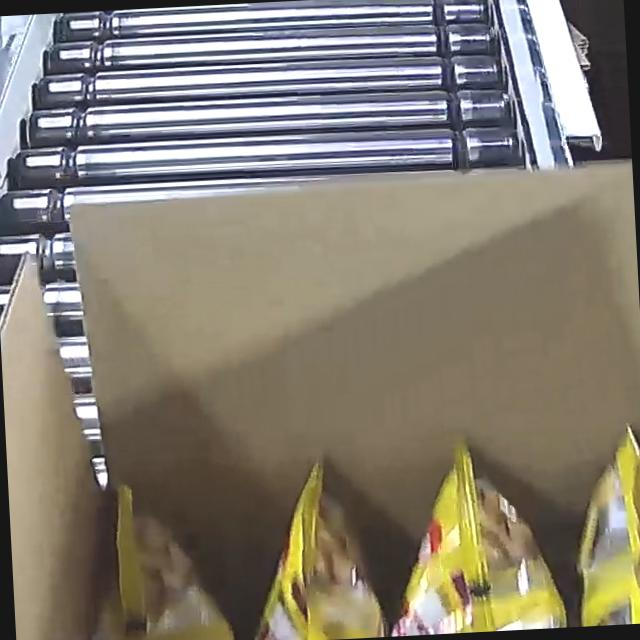salted: (49, 413, 640, 640)
